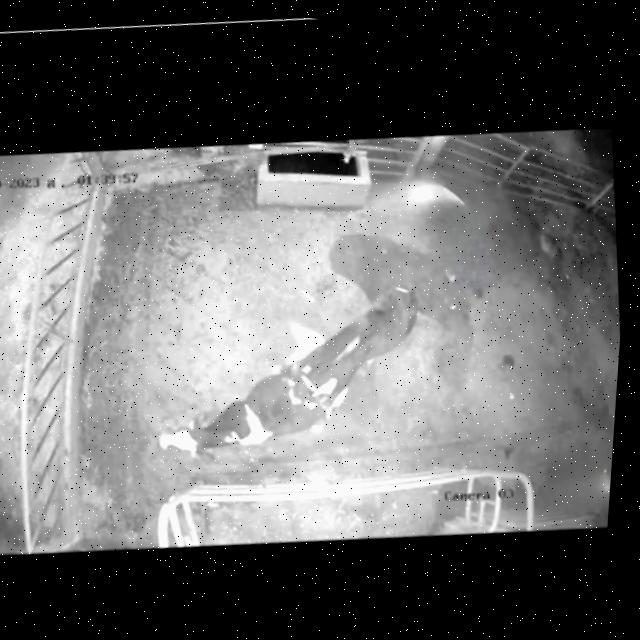ride: (229, 255, 455, 461)
stand: (131, 357, 352, 483)
